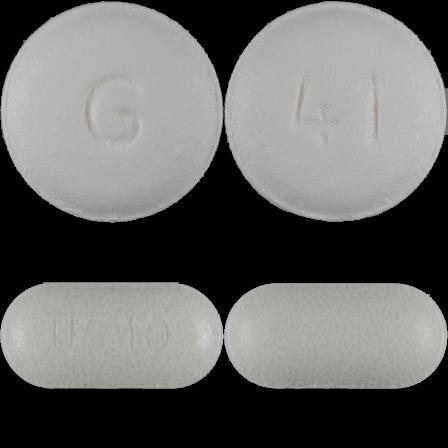50090-2175: (0, 0, 224, 224)
